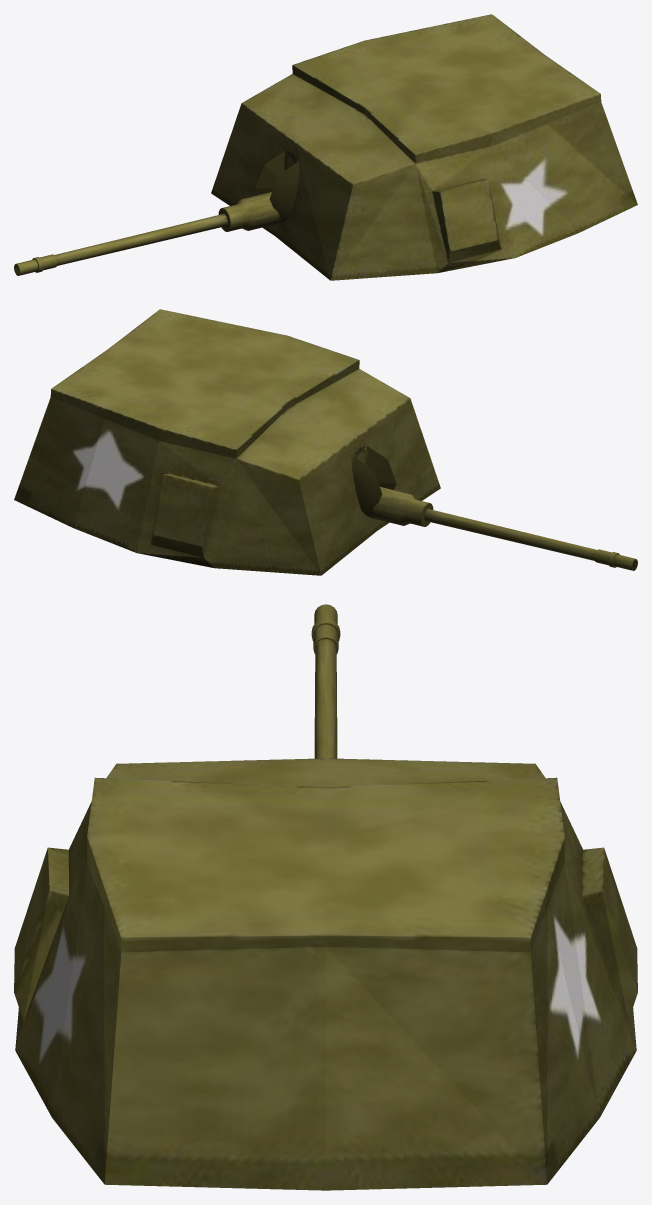
Rendered from tank-turret.obj.
3 renders of one model, top to bottom at view 1: azimuth 30°, elevation 25°; view 2: azimuth 150°, elevation 25°; view 3: azimuth 270°, elevation 25°, orthographic. The views are drawn at different scales.
Parts seen in each view (by area): view 1: TurretGood, GunGood; view 2: TurretGood, GunGood; view 3: TurretGood, GunGood.
Boxes of the visible parts, x1,y1,x2,y2 form: TurretGood: [211, 14, 637, 280]; GunGood: [14, 192, 284, 275]; TurretGood: [14, 309, 440, 575]; GunGood: [367, 487, 637, 570]; TurretGood: [14, 758, 637, 1190]; GunGood: [311, 604, 340, 758].
Bounding box in the file's own units: 2.21 × 0.4304 × 1.12.
Materials: 1 (1 with a texture image).
